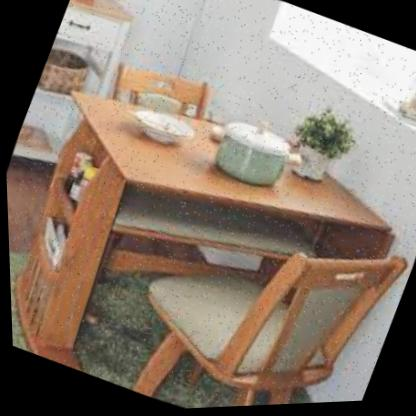Chair: (92, 152, 416, 413)
Table: (11, 33, 416, 356)
